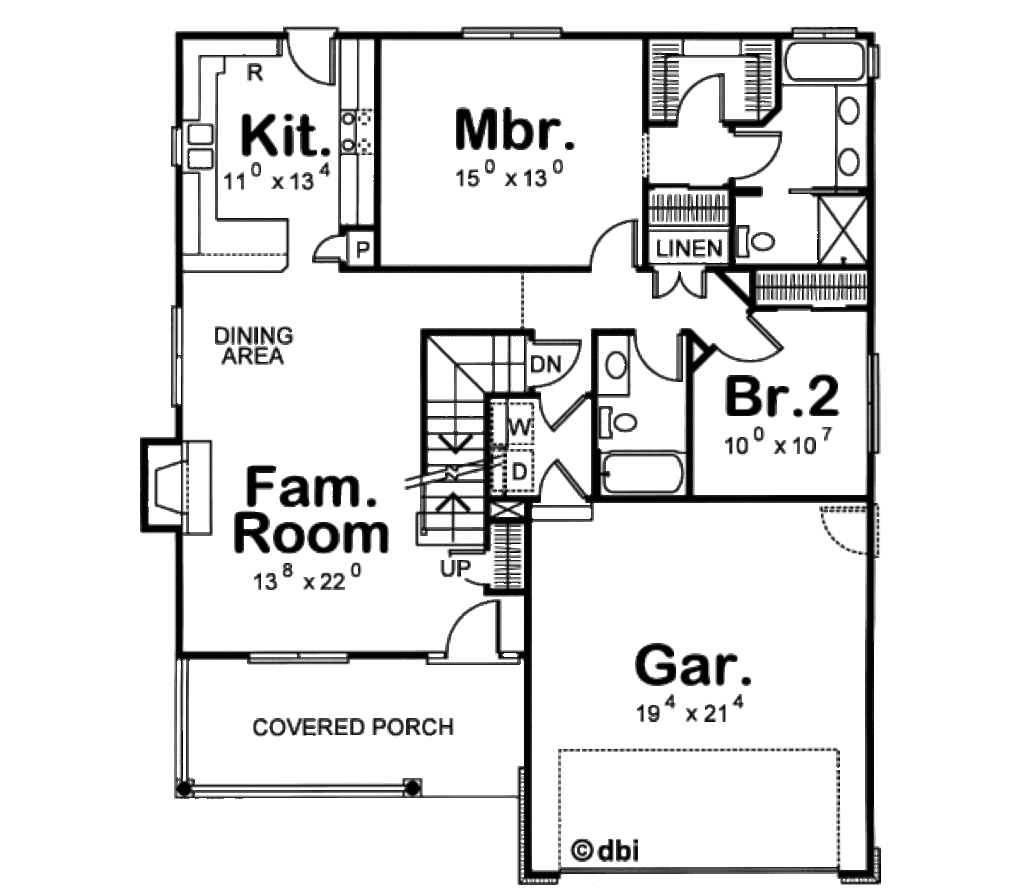door: (800, 493, 904, 564), (420, 592, 517, 665), (695, 312, 788, 369), (277, 21, 345, 90), (580, 217, 647, 277), (533, 456, 589, 522), (631, 330, 686, 397), (729, 128, 791, 187), (681, 71, 731, 127), (526, 337, 585, 384), (533, 388, 591, 432), (300, 232, 361, 267), (649, 266, 708, 298)
large_sink: (596, 396, 643, 442), (728, 222, 781, 259)
small_sink: (831, 90, 869, 188), (594, 331, 630, 395)
stairs: (409, 320, 533, 552)
tub: (780, 29, 877, 84), (596, 449, 695, 492)
twin_sink: (179, 109, 228, 173)
window: (249, 640, 358, 680), (160, 302, 192, 409), (450, 11, 561, 40), (860, 350, 885, 467)
